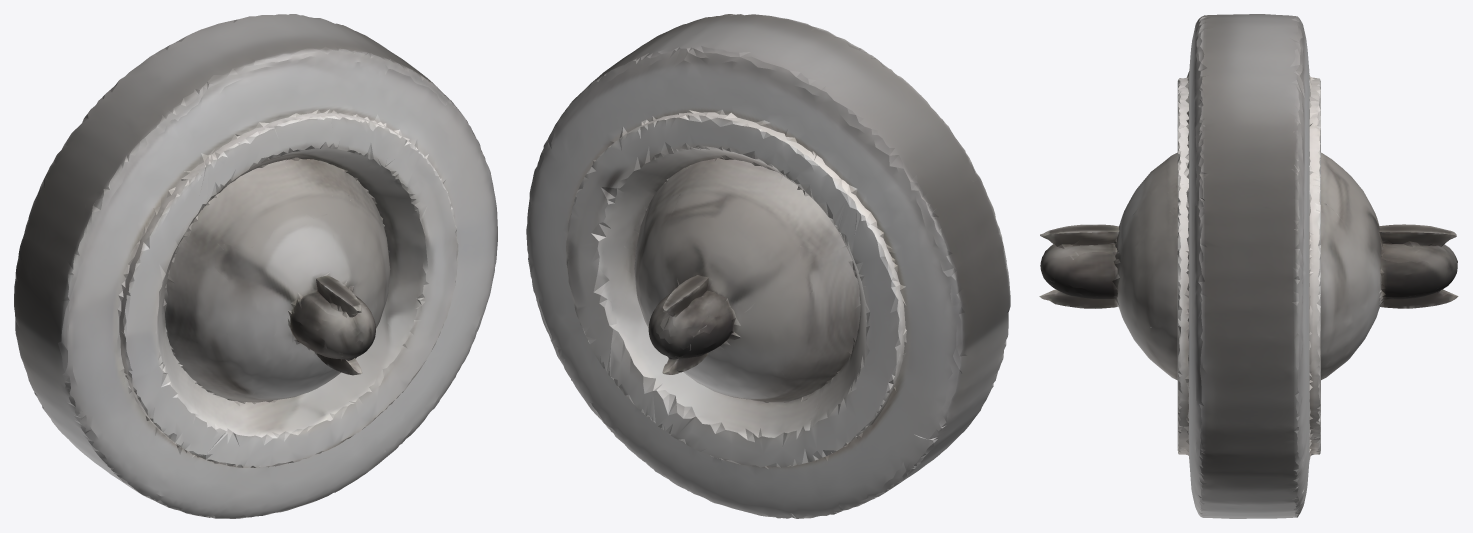
Rendered from viper_shield.glb.
The picture shows the model from 3 angles, left to right: view 1: azimuth 30°, elevation 25°; view 2: azimuth 150°, elevation 25°; view 3: azimuth 270°, elevation 25°; orthographic projection.
Visible parts, largest first — view 1: viper_shield; view 2: viper_shield; view 3: viper_shield.
Part boxes in pixels (bbox=[...]): viper_shield: bbox=[14, 14, 497, 518]; viper_shield: bbox=[526, 14, 1010, 518]; viper_shield: bbox=[1039, 14, 1458, 518].
Bounding box in the file's own units: 1.89 × 1.9 × 1.58.
Materials: 1 (1 with a texture image).
